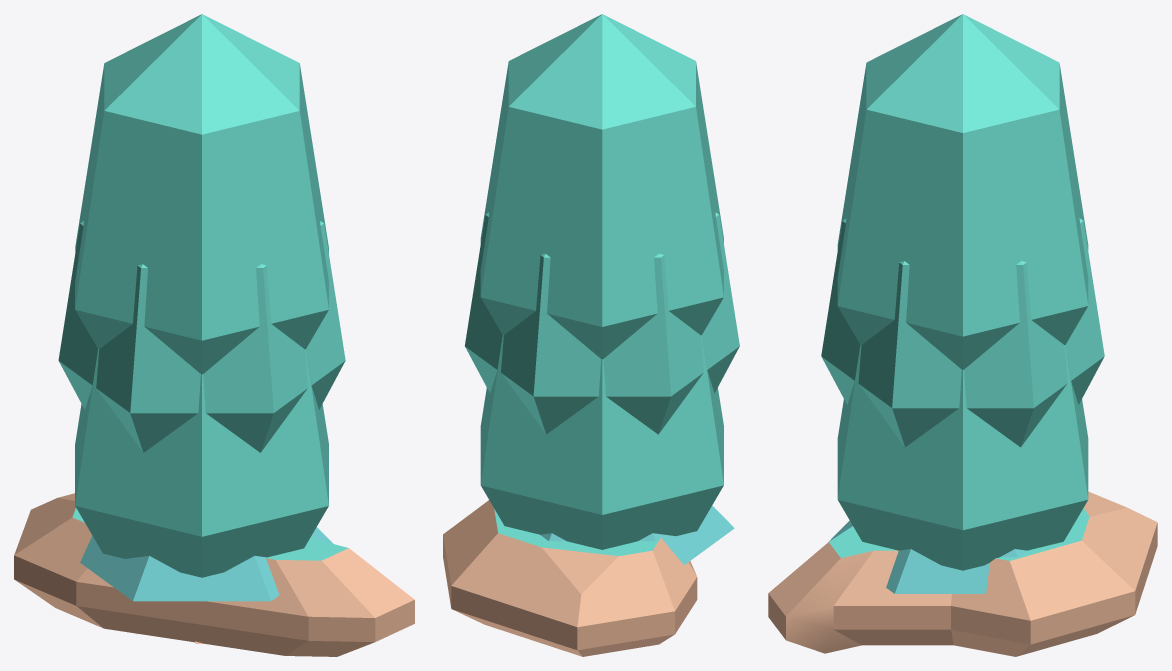
File: nature.glb
3 views of the same model, side by side, from view 1: azimuth 30°, elevation 25°; view 2: azimuth 150°, elevation 25°; view 3: azimuth 270°, elevation 25° (orthographic). The views are drawn at different scales.
Visible parts, largest first — view 1: tree_default, tree_fat, rock_largeA, tree_oak, tree_pineRoundA; view 2: tree_default, tree_fat, rock_largeA, tree_oak, tree_pineRoundA; view 3: tree_default, rock_largeA, tree_fat, tree_oak, tree_pineRoundA.
Boxes of the visible parts, bbox=[...] form: tree_default: bbox=[75, 14, 328, 374]; tree_fat: bbox=[75, 349, 328, 577]; rock_largeA: bbox=[14, 493, 414, 656]; tree_oak: bbox=[58, 221, 345, 643]; tree_pineRoundA: bbox=[80, 527, 333, 601]; tree_default: bbox=[480, 14, 723, 359]; tree_fat: bbox=[480, 335, 723, 549]; rock_largeA: bbox=[443, 500, 697, 656]; tree_oak: bbox=[465, 212, 739, 434]; tree_pineRoundA: bbox=[540, 505, 734, 565]; tree_default: bbox=[837, 14, 1088, 369]; rock_largeA: bbox=[768, 491, 1157, 656]; tree_fat: bbox=[837, 345, 1088, 570]; tree_oak: bbox=[821, 218, 1104, 447]; tree_pineRoundA: bbox=[829, 520, 1026, 593].
Size of the model in its own units: 0.7849 by 1.71 by 1.02.
